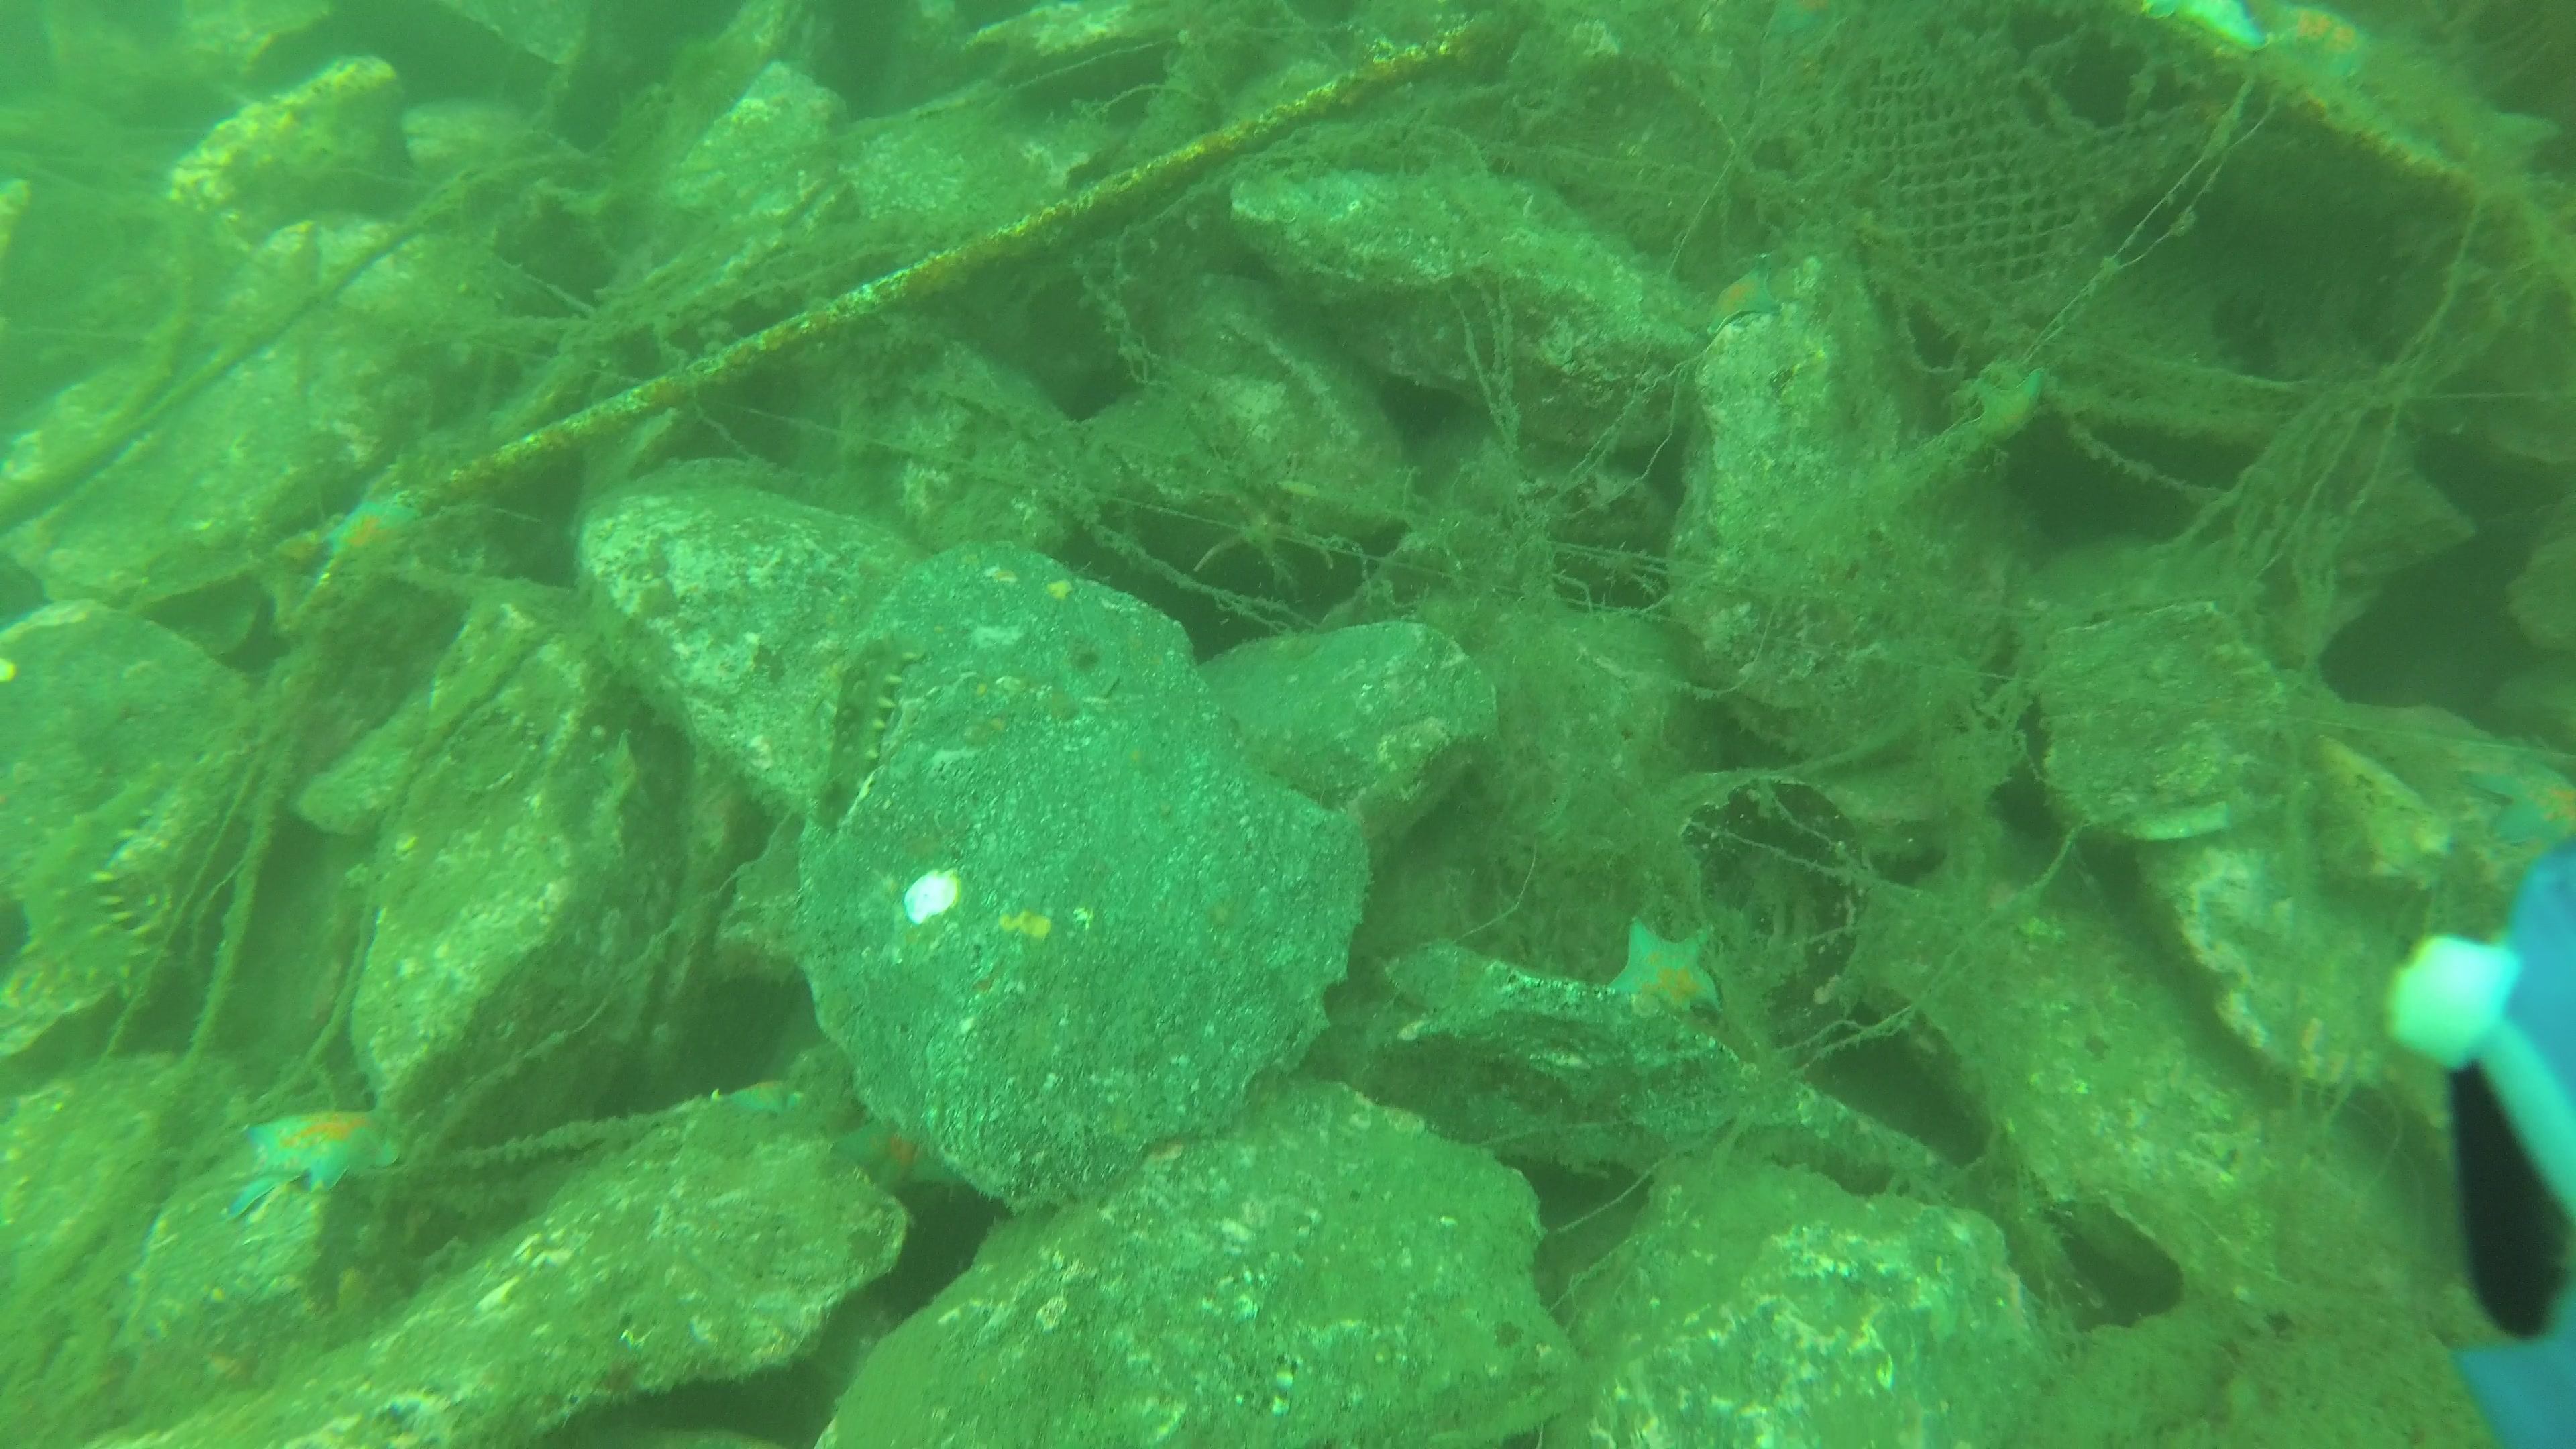holothurian: (16, 766, 182, 1005), (805, 614, 934, 830)
starfish: (216, 1102, 407, 1217), (1606, 915, 1727, 1024), (2459, 747, 2576, 856), (2259, 2, 2390, 90), (826, 1111, 959, 1192), (311, 497, 426, 577), (1702, 248, 1789, 340), (709, 1074, 814, 1122)
